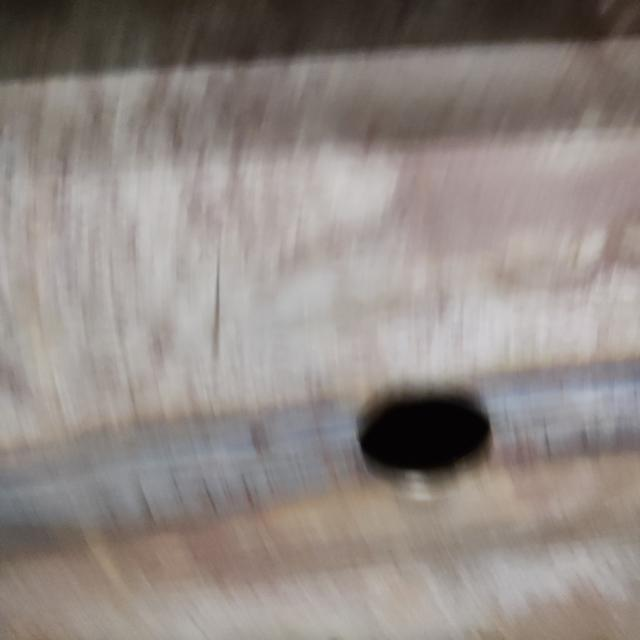seam: (0, 341, 640, 570)
